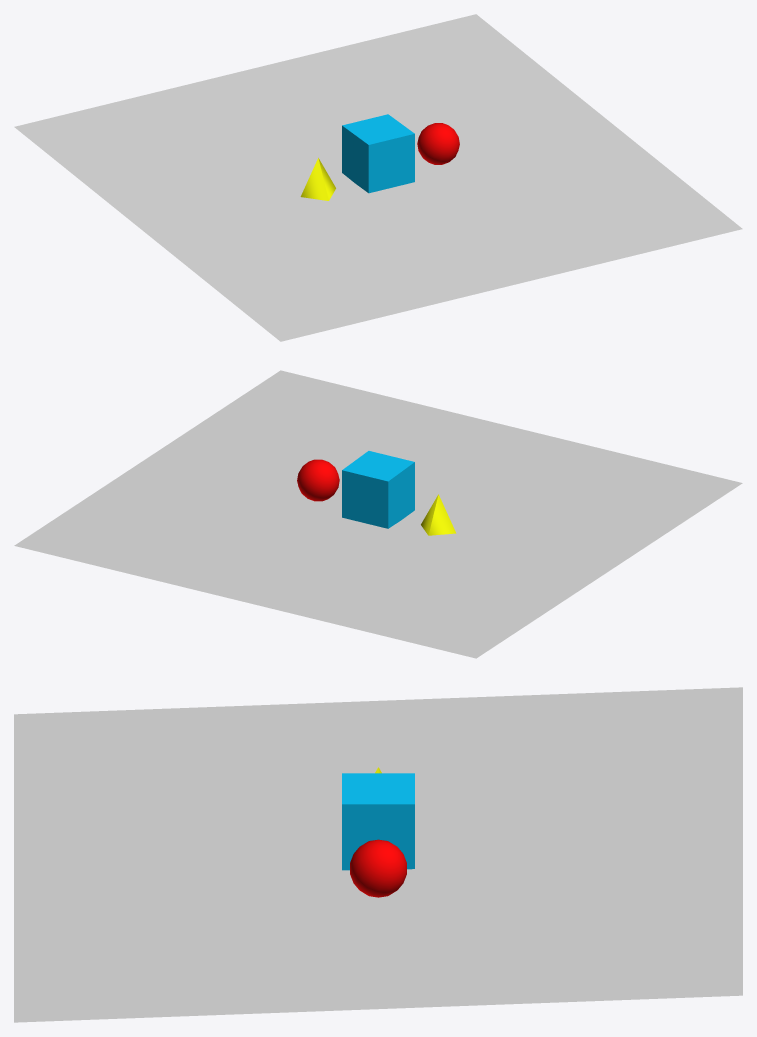
3 views of the same model, one above another, from view 1: azimuth 30°, elevation 25°; view 2: azimuth 150°, elevation 25°; view 3: azimuth 270°, elevation 25° (orthographic). The views are drawn at different scales.
Visible parts, largest first — view 1: Plane, Box, Icosahedron, Cylinder; view 2: Plane, Box, Icosahedron, Cylinder; view 3: Plane, Box, Icosahedron.
Part boxes in pixels (x1,y1,x2,y2): Plane: (14, 14, 742, 341); Box: (342, 114, 414, 193); Icosahedron: (417, 123, 459, 164); Cylinder: (300, 158, 335, 200); Plane: (14, 370, 742, 658); Box: (342, 451, 414, 528); Icosahedron: (297, 459, 339, 501); Cylinder: (421, 494, 456, 535); Plane: (14, 687, 742, 1022); Box: (342, 773, 414, 870); Icosahedron: (350, 839, 406, 897).
Bounding box in the file's own units: 10 × 1.2 × 9.99.
